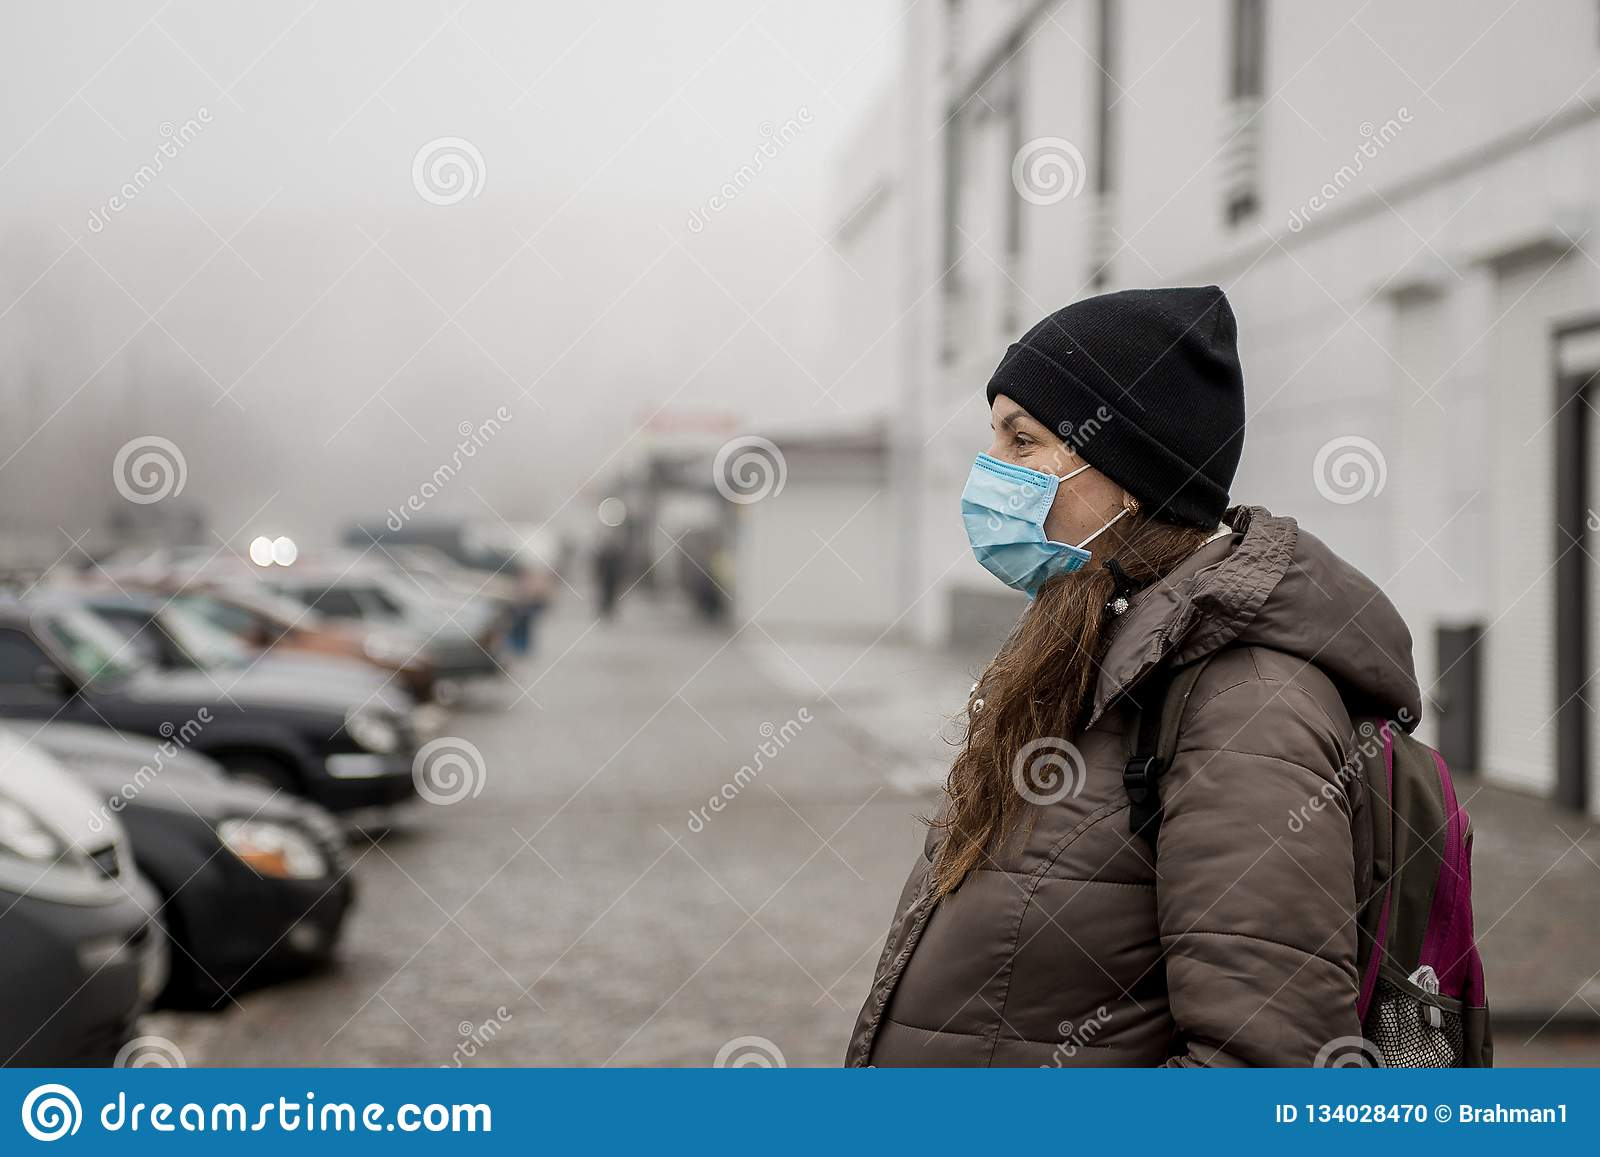mask: (960, 456, 1092, 594)
